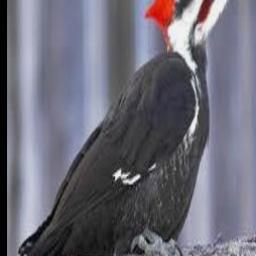Woodpecker: (10, 0, 256, 256)
